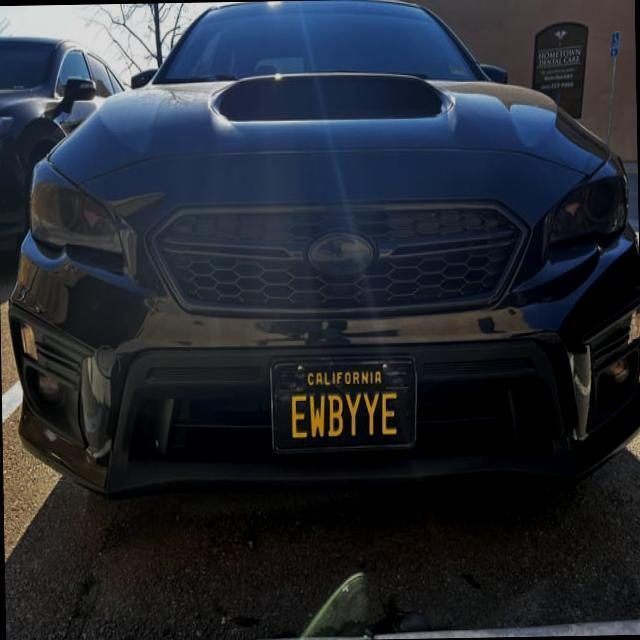license-plate: (281, 364, 432, 458)
